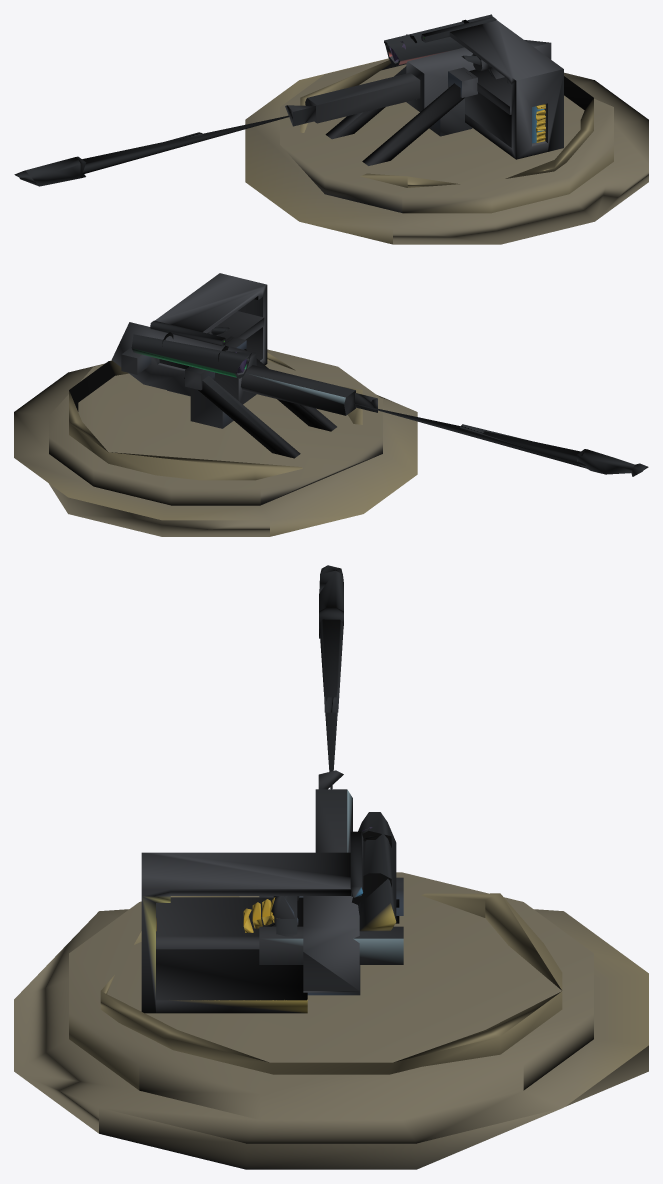
Rendered from humvee_turret.glb.
3 renders of one model, top to bottom at view 1: azimuth 30°, elevation 25°; view 2: azimuth 150°, elevation 25°; view 3: azimuth 270°, elevation 25°, orthographic. The views are drawn at different scales.
Bounding box in the file's own units: 1.52 × 0.294 × 0.8816.
